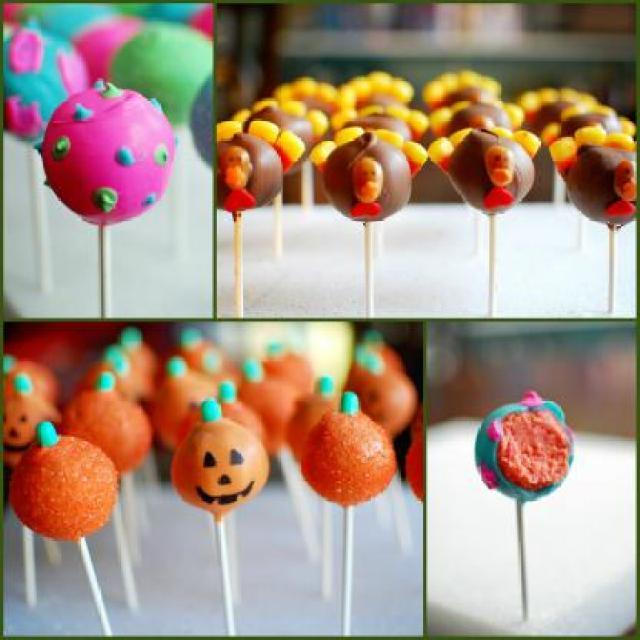Candy: (0, 314, 426, 542), (214, 73, 640, 232), (0, 0, 218, 221), (481, 398, 572, 512)
